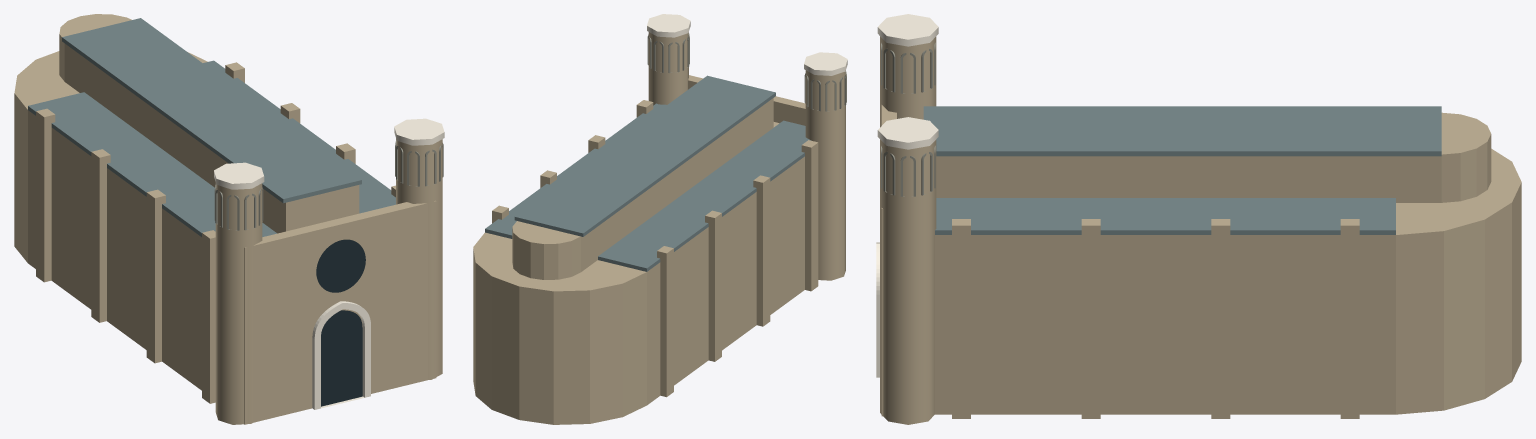
File: santa-maria-mar.glb
3 views of the same model, side by side, from view 1: azimuth 30°, elevation 25°; view 2: azimuth 150°, elevation 25°; view 3: azimuth 270°, elevation 25° (orthographic). The views are drawn at different scales.
Parts seen in each view (by area): view 1: plain-west-facade, hall-church-body, flat-central-roof, side-roof-terrace, external-solid-buttress, slender-octagonal-tower, central-high-nave, polygonal-ambulatory, belfry, west-door-recess, flat-tower-cornice, west-portal (+3 smaller); view 2: polygonal-ambulatory, hall-church-body, flat-central-roof, side-roof-terrace, external-solid-buttress, central-high-nave, slender-octagonal-tower, high-apse, belfry, flat-tower-cornice, belfry-opening, plain-west-facade; view 3: hall-church-body, polygonal-ambulatory, flat-central-roof, central-high-nave, side-roof-terrace, external-solid-buttress, slender-octagonal-tower, belfry, high-apse, flat-tower-cornice, belfry-opening, plain-west-facade.
Part boxes in pixels (x1,y1,x2,y2): plain-west-facade: (244,200,436,424); hall-church-body: (28,110,201,390); flat-central-roof: (62,18,361,203); side-roof-terrace: (28,60,395,236); external-solid-buttress: (36,62,395,403); slender-octagonal-tower: (215,186,442,424); central-high-nave: (64,43,359,233); polygonal-ambulatory: (14,51,207,262); belfry: (215,138,442,241); west-door-recess: (321,310,362,406); flat-tower-cornice: (214,118,444,189); west-portal: (312,301,370,409); polygonal-ambulatory: (473,232,646,424); hall-church-body: (647,122,804,405); flat-central-roof: (514,75,775,236); side-roof-terrace: (485,103,811,271); external-solid-buttress: (492,100,818,397); central-high-nave: (581,98,773,271); slender-octagonal-tower: (648,73,845,280); high-apse: (512,221,580,279); belfry: (648,32,845,121); flat-tower-cornice: (647,14,847,75); belfry-opening: (647,32,846,111); plain-west-facade: (688,75,805,125); hall-church-body: (935,235,1395,414); polygonal-ambulatory: (1396,148,1521,414); flat-central-roof: (923,106,1441,156); central-high-nave: (936,156,1441,202); side-roof-terrace: (935,198,1395,234); external-solid-buttress: (952,219,1359,418); slender-octagonal-tower: (880,96,936,424); belfry: (880,36,936,210); high-apse: (1441,112,1491,202); flat-tower-cornice: (877,14,938,149); belfry-opening: (881,42,935,196); plain-west-facade: (881,105,896,416).
Bounding box in the file's own units: 7.56 × 7.74 × 16.
